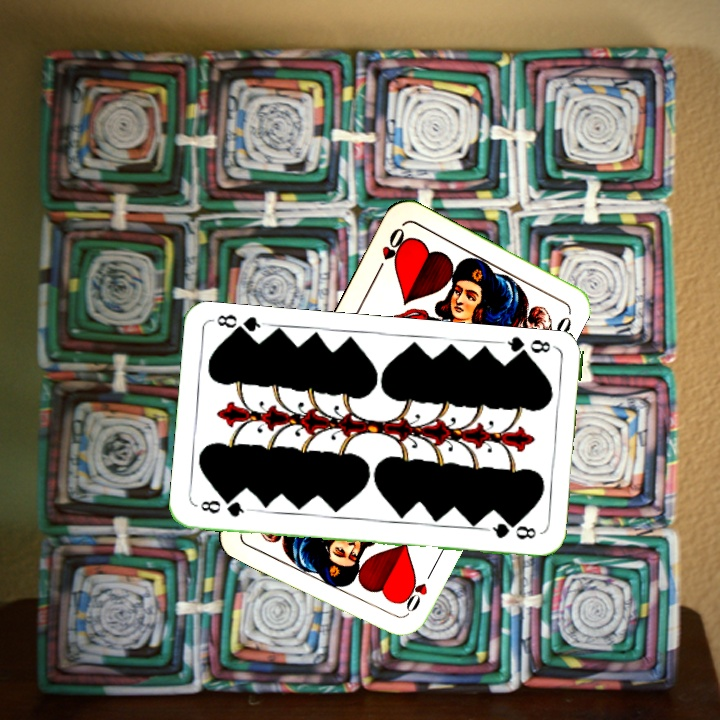G8: (498, 333, 557, 362), (196, 496, 253, 519)
HO: (372, 223, 411, 276), (399, 574, 430, 619)
